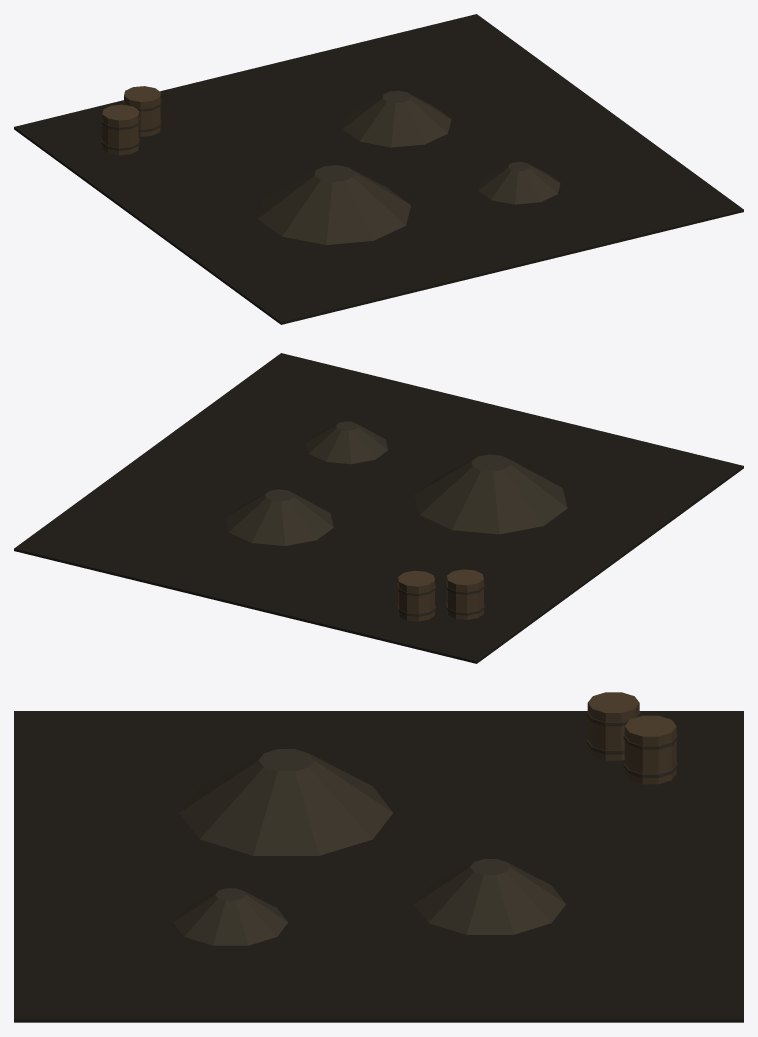
Rendered from CourtyardMidden.fbx.
3 renders of one model, top to bottom at view 1: azimuth 30°, elevation 25°; view 2: azimuth 150°, elevation 25°; view 3: azimuth 270°, elevation 25°, orthographic. The views are drawn at different scales.
Visible parts, largest first — view 1: CourtyardMidden; view 2: CourtyardMidden; view 3: CourtyardMidden.
Part boxes in pixels (x1,y1,x2,y2): CourtyardMidden: [14, 14, 743, 324]; CourtyardMidden: [14, 353, 743, 663]; CourtyardMidden: [14, 692, 743, 1022].
Size of the model in its own units: 1182 by 100 by 1182.
3 materials, 3 textured.
